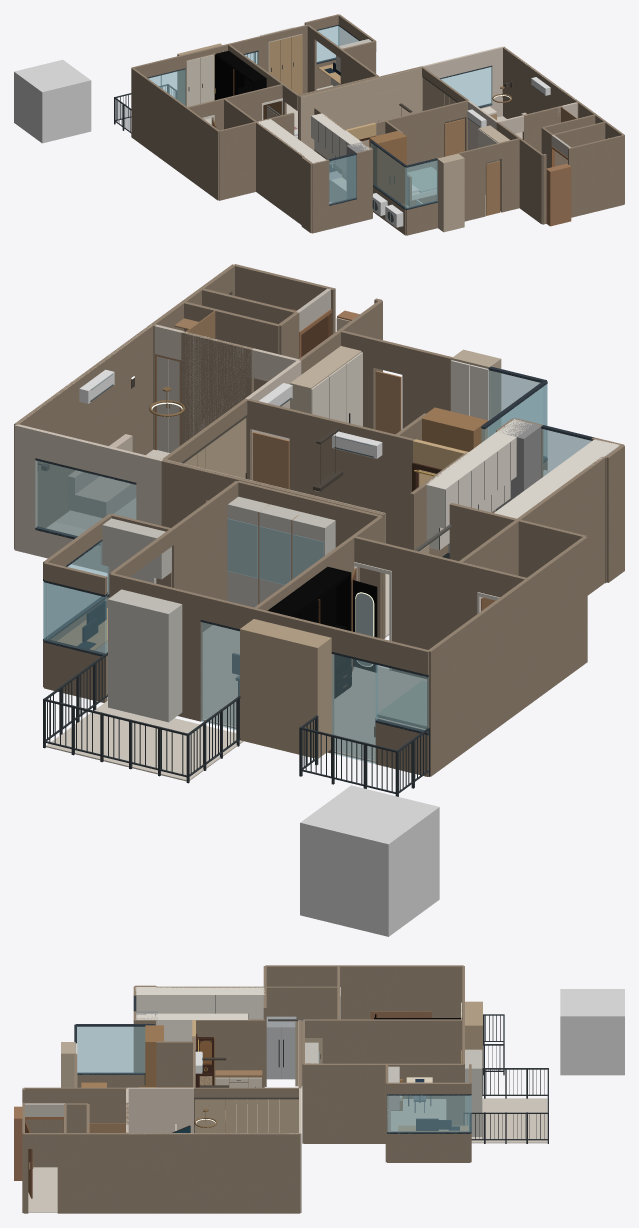
Rendered from A501-blender-lighting.glb.
The picture shows the model from 3 angles, top to bottom: view 1: azimuth 30°, elevation 25°; view 2: azimuth 150°, elevation 25°; view 3: azimuth 270°, elevation 25°; orthographic projection. The views are drawn at different scales.
Parts seen in each view (by area): view 1: Cube, Element 1, Element 19, Element 7, Element 196, Element 12, Element 5, Element 52, Element 4, Element 610, Element 604, Element 13 (+60 smaller); view 2: Cube, Element 1, Element 378, Element 12, Element 52, Element 578, Element 572, Element 4, Element 56, terrace | limestone floor, Element 15, Element 35 (+72 smaller); view 3: Element 12, Element 79, Element 78, Element 1, Element 17, Cube, Element 660, Element 13, Element 25, Element 53, Element 89, Element 44 (+38 smaller).
Boxes of the visible parts, bbox=[...] form: Cube: bbox=[14, 59, 91, 143]; Element 1: bbox=[131, 68, 187, 176]; Element 19: bbox=[568, 135, 624, 217]; Element 7: bbox=[256, 122, 304, 224]; Element 196: bbox=[300, 78, 376, 150]; Element 12: bbox=[503, 46, 579, 118]; Element 5: bbox=[219, 121, 256, 200]; Element 52: bbox=[375, 106, 444, 172]; Element 4: bbox=[185, 107, 219, 200]; Element 610: bbox=[437, 153, 464, 232]; Element 604: bbox=[369, 131, 406, 204]; Element 13: bbox=[496, 122, 543, 224]; Cube: bbox=[300, 785, 439, 936]; Element 1: bbox=[427, 578, 529, 776]; Element 378: bbox=[240, 619, 333, 758]; Element 12: bbox=[14, 324, 153, 549]; Element 52: bbox=[289, 409, 414, 549]; Element 578: bbox=[108, 589, 182, 722]; Element 572: bbox=[227, 496, 335, 607]; Element 4: bbox=[526, 536, 587, 703]; Element 56: bbox=[392, 545, 479, 678]; terrace | limestone floor: bbox=[46, 701, 243, 781]; Element 15: bbox=[181, 331, 253, 444]; Element 35: bbox=[35, 460, 136, 537]; Element 12: bbox=[127, 1133, 300, 1213]; Element 79: bbox=[303, 1063, 386, 1143]; Element 78: bbox=[333, 1019, 462, 1098]; Element 1: bbox=[338, 965, 463, 1019]; Element 17: bbox=[57, 1133, 127, 1213]; Cube: bbox=[560, 989, 624, 1075]; Element 660: bbox=[135, 987, 264, 1019]; Element 13: bbox=[23, 1087, 127, 1167]; Element 25: bbox=[77, 1026, 145, 1074]; Element 53: bbox=[196, 1019, 264, 1087]; Element 89: bbox=[387, 1094, 470, 1133]; Element 44: bbox=[127, 1087, 193, 1132].
Bounding box in the file's own units: 14.25 × 3.7 × 18.87.
450 materials, 5 textured.
